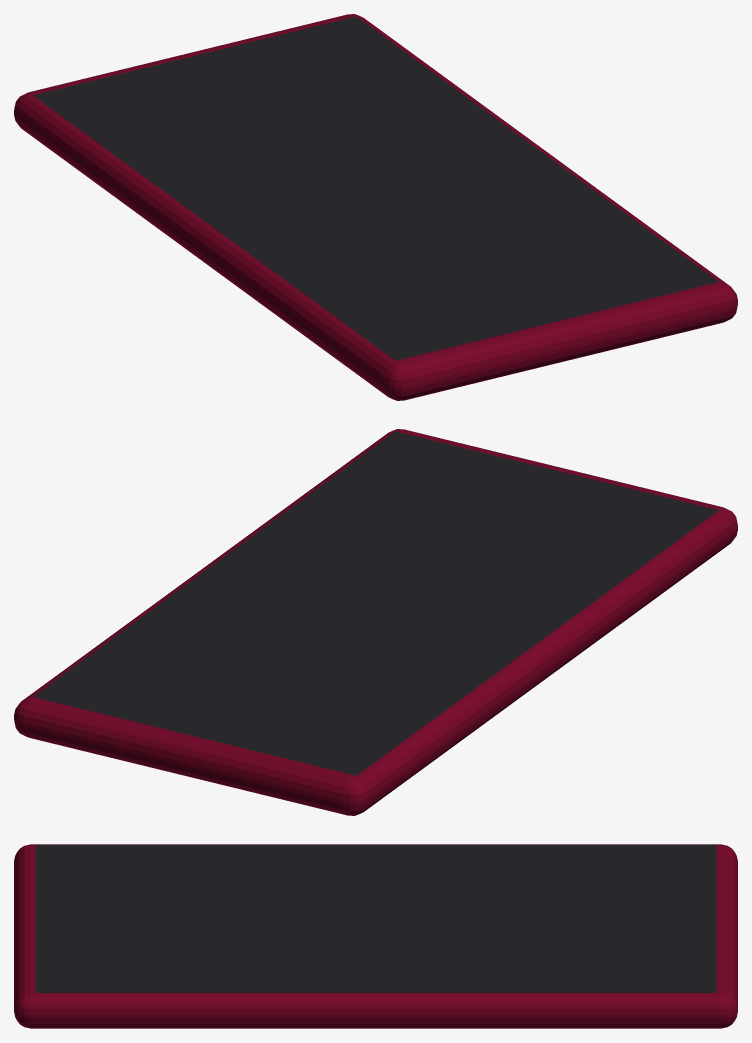
The model's file is xiaomi-redmi-model-126-flagship-2026.glb.
3 renders of one model, top to bottom at view 1: azimuth 30°, elevation 25°; view 2: azimuth 150°, elevation 25°; view 3: azimuth 270°, elevation 25°, orthographic. The views are drawn at different scales.
Visible parts, largest first — view 1: Phone_Screen, Phone_Body; view 2: Phone_Screen, Phone_Body; view 3: Phone_Screen, Phone_Body.
Boxes of the visible parts, x1,y1,x2,y2 form: Phone_Screen: (33, 16, 718, 360); Phone_Body: (14, 14, 737, 400); Phone_Screen: (33, 431, 718, 775); Phone_Body: (14, 429, 737, 815); Phone_Screen: (35, 844, 716, 992); Phone_Body: (14, 844, 737, 1028).
Bounding box in the file's own units: 0.0751 × 0.0076 × 0.1427.
